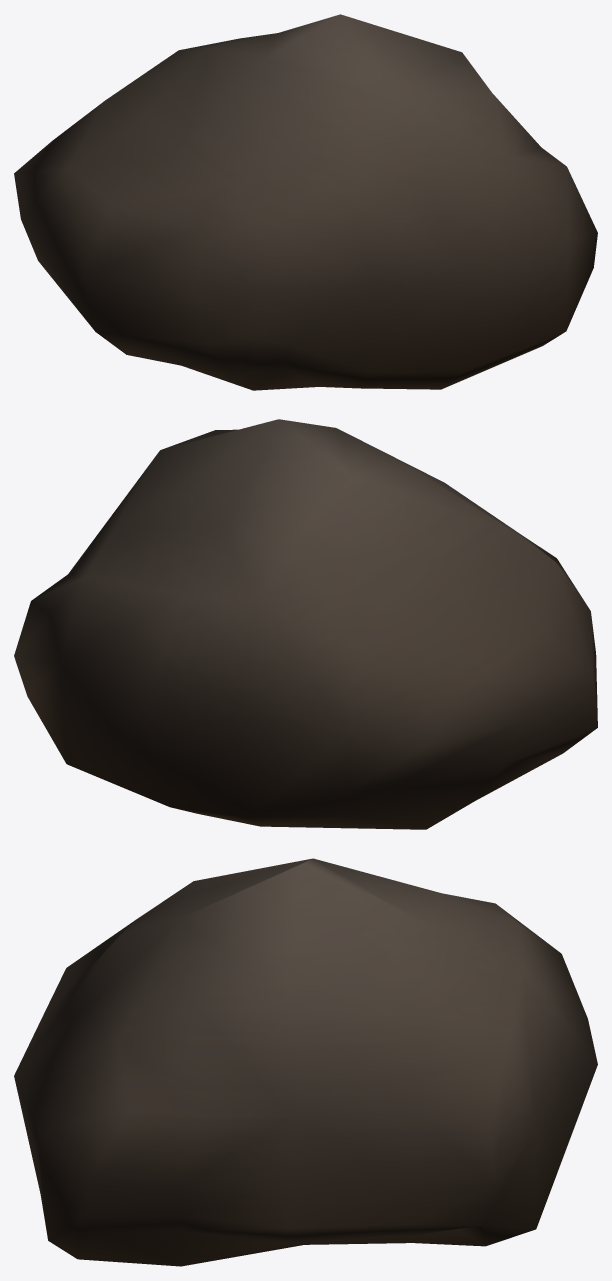
File: roca2.fbx
3 renders of one model, top to bottom at view 1: azimuth 30°, elevation 25°; view 2: azimuth 150°, elevation 25°; view 3: azimuth 270°, elevation 25°, orthographic. The views are drawn at different scales.
Visible parts, largest first — view 1: roca2; view 2: roca2; view 3: roca2.
Boxes of the visible parts, box(x1,y1,x2,y2) form: roca2: box(14, 14, 597, 390); roca2: box(14, 419, 597, 829); roca2: box(14, 858, 597, 1266).
Size of the model in its own units: 72.76 by 50.47 by 70.74.
1 material, 1 textured.
